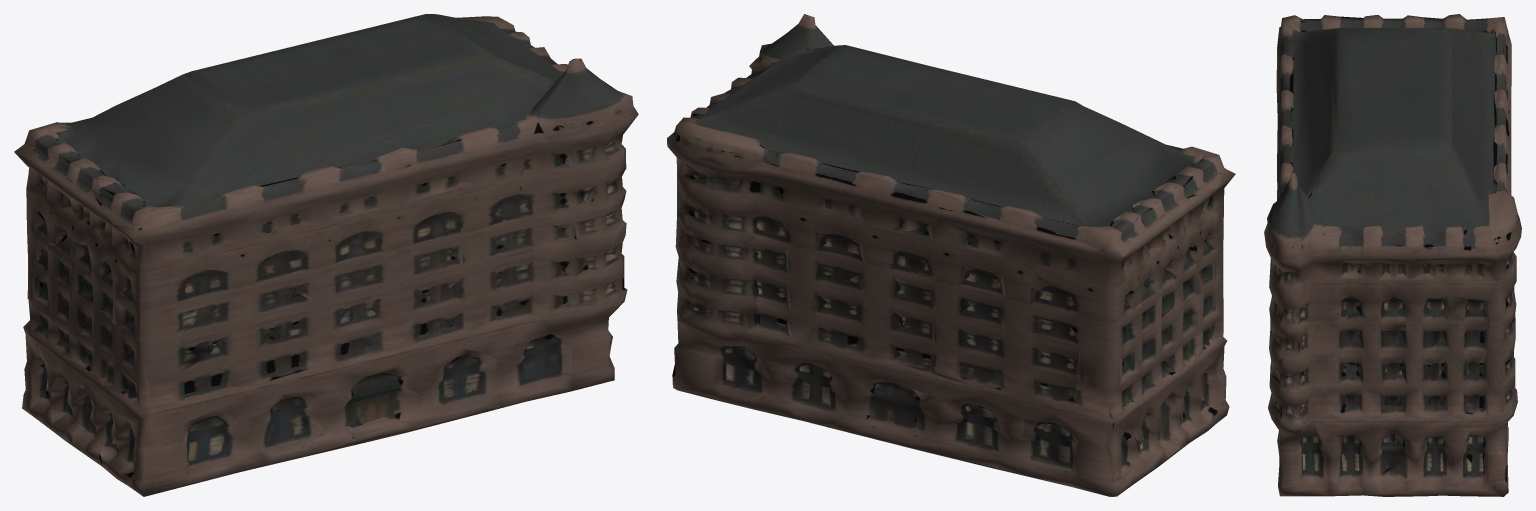
File: chicago_club.glb
3 renders of one model, left to right at view 1: azimuth 30°, elevation 25°; view 2: azimuth 150°, elevation 25°; view 3: azimuth 270°, elevation 25°, orthographic. The views are drawn at different scales.
Visible parts, largest first — view 1: chicago_club; view 2: chicago_club; view 3: chicago_club.
Part boxes in pixels (left/top/right/bottom): chicago_club: left=14, top=14, right=638, bottom=496; chicago_club: left=667, top=14, right=1235, bottom=496; chicago_club: left=1264, top=14, right=1521, bottom=496.
Size of the model in its own units: 52 by 32 by 24.
Materials: 1 (1 with a texture image).
